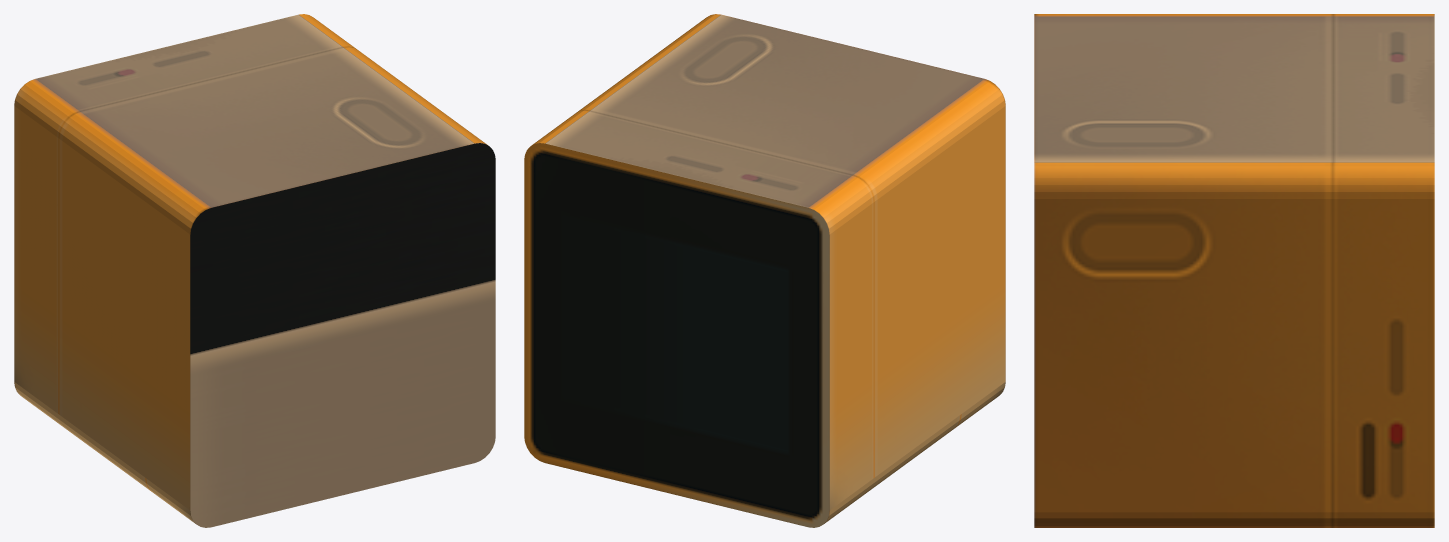
File: head.obj
3 views of the same model, side by side, from view 1: azimuth 30°, elevation 25°; view 2: azimuth 150°, elevation 25°; view 3: azimuth 270°, elevation 25° (orthographic). The views are drawn at different scales.
Parts seen in each view (by area): view 1: Cube; view 2: Cube; view 3: Cube.
Boxes of the visible parts, x1,y1,x2,y2 form: Cube: (14, 14, 495, 527); Cube: (524, 14, 1005, 527); Cube: (1034, 14, 1434, 527).
Size of the model in its own units: 2 by 2 by 2.
1 material, 1 textured.
